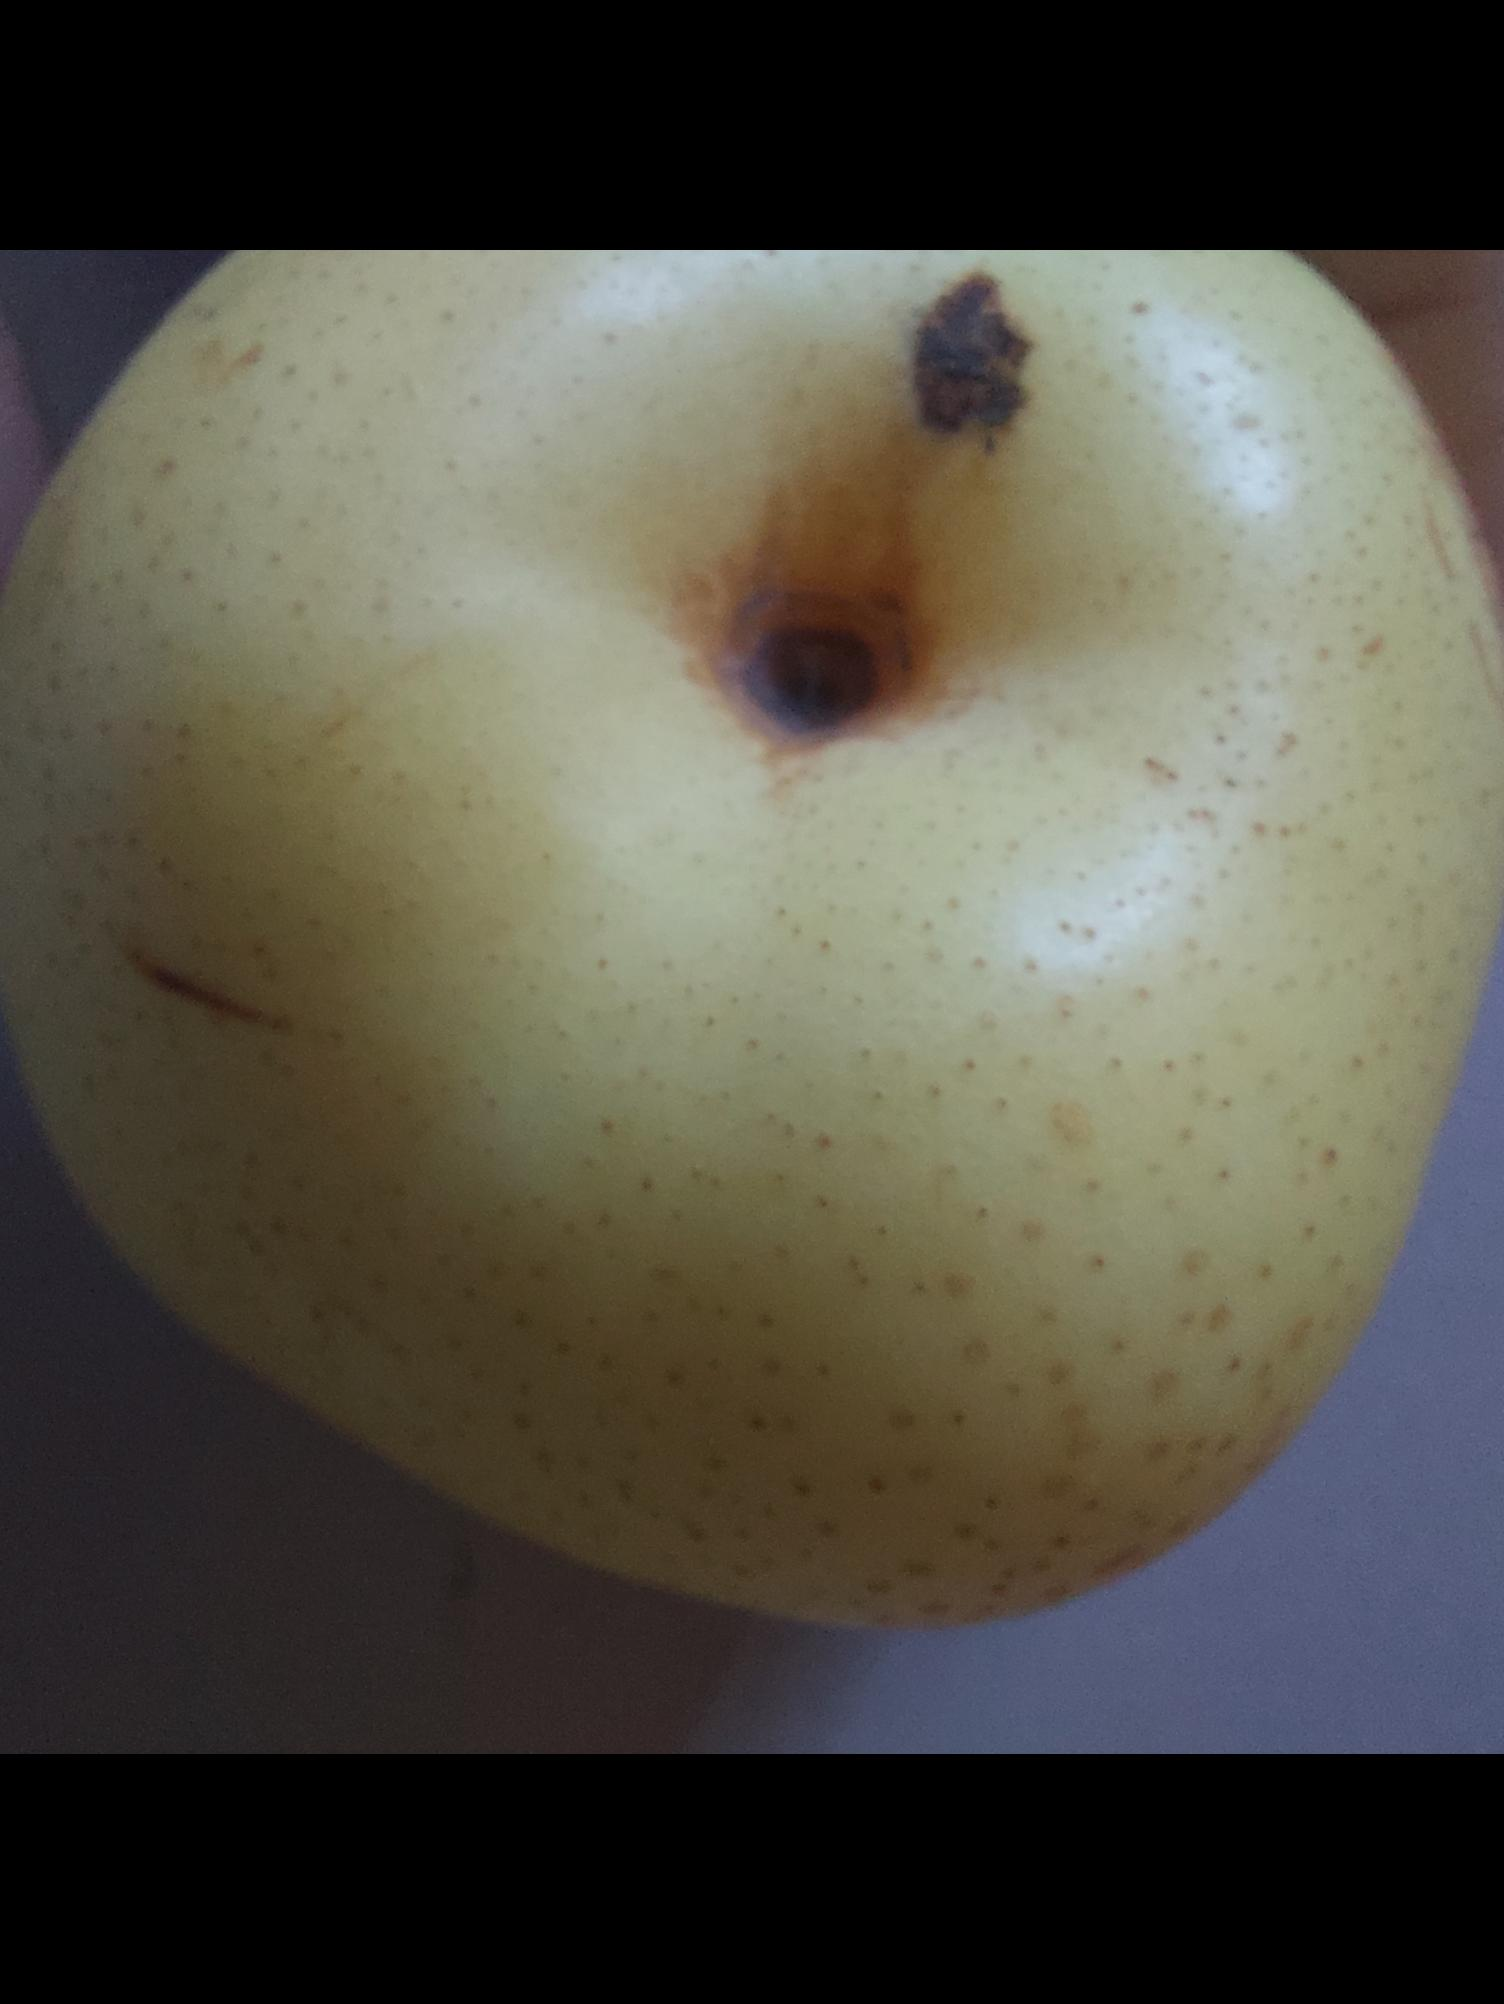Good Pear: (0, 250, 1504, 1653)
